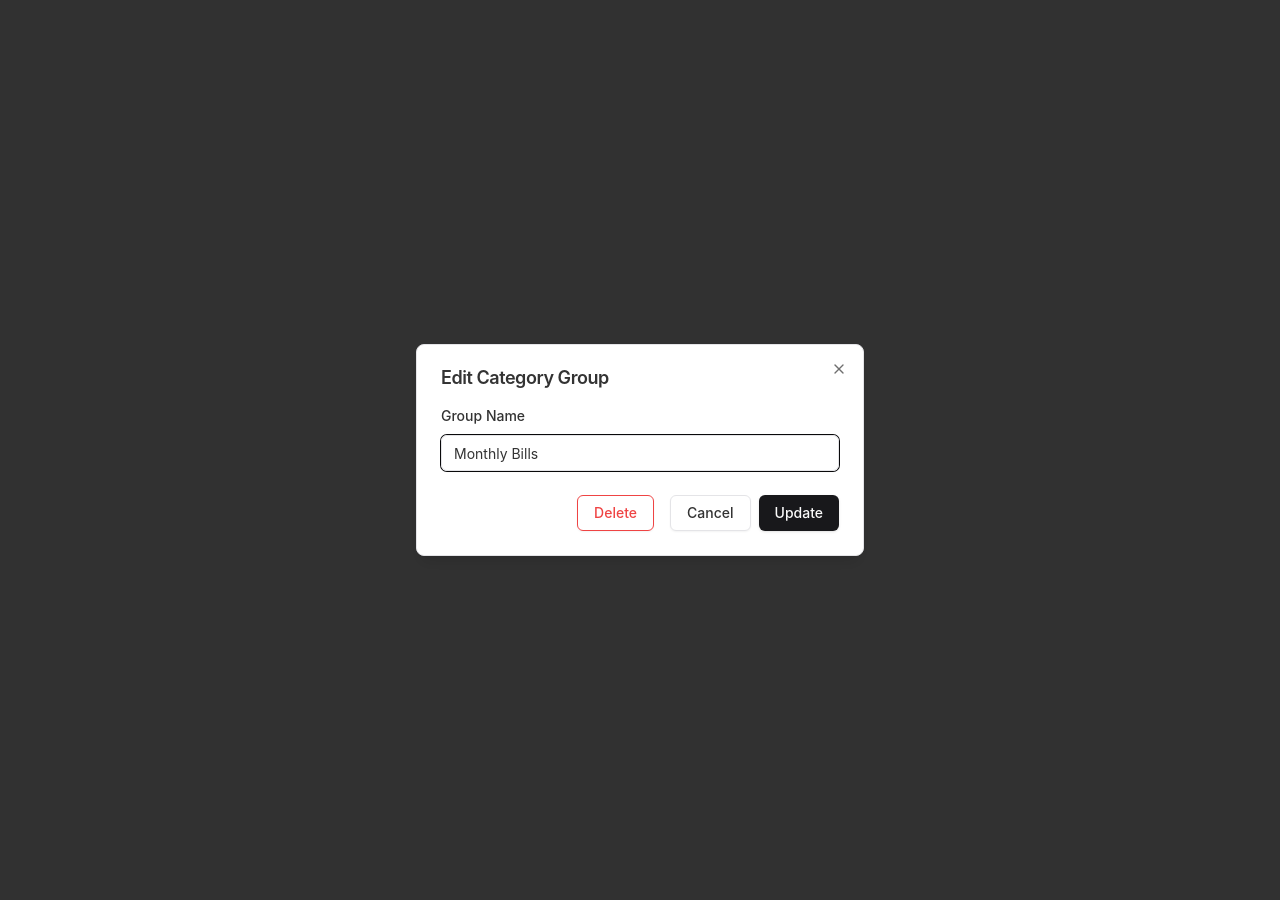
Test: CategoryGroupModal › Edit mode › should display error message when deleteGroup fails
The width and height of the screenshot is (1280, 900).
Click the button "Delete": (616, 513) [577,495,654,531]
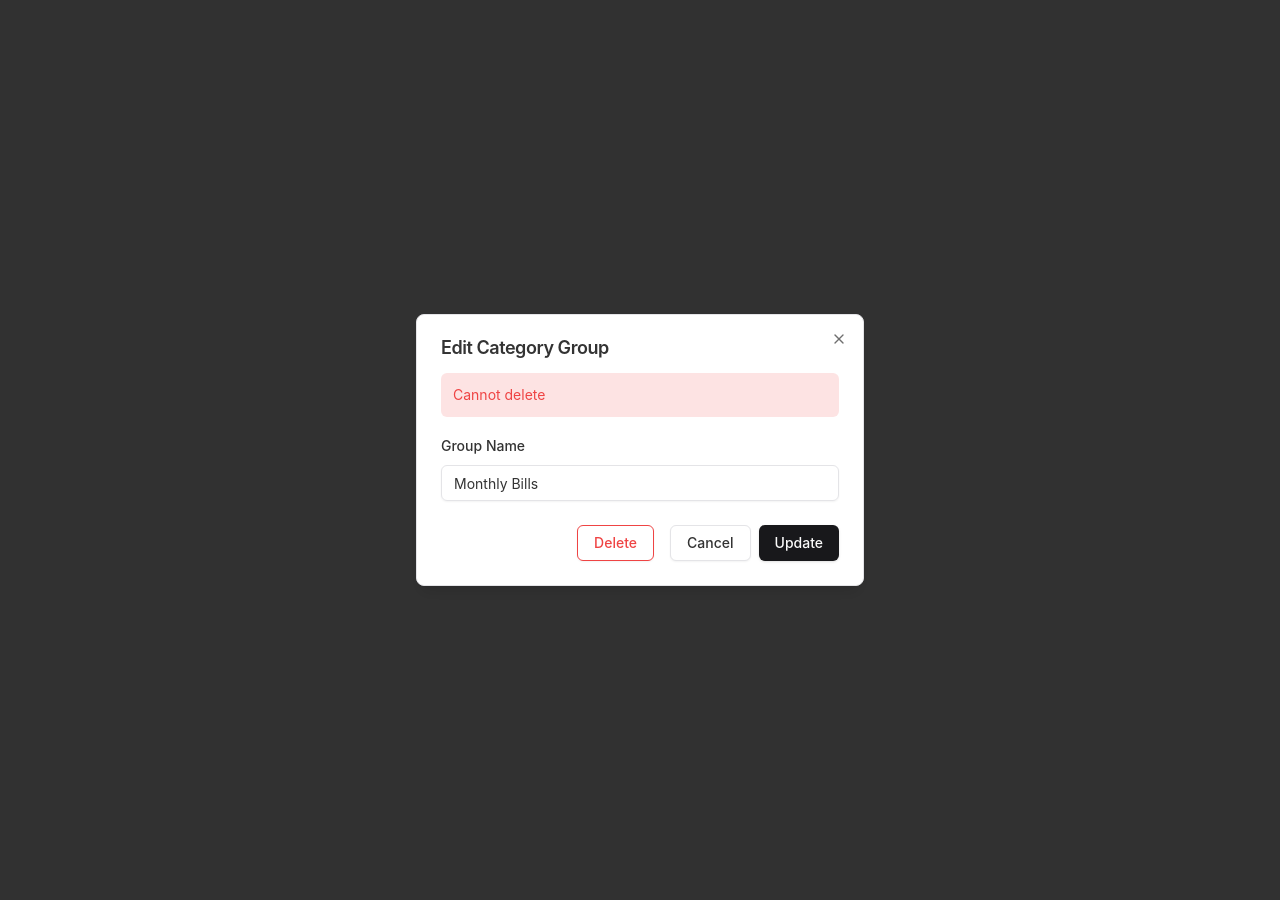
Expected: the text "Cannot delete" is shown, [441,373,839,417]
